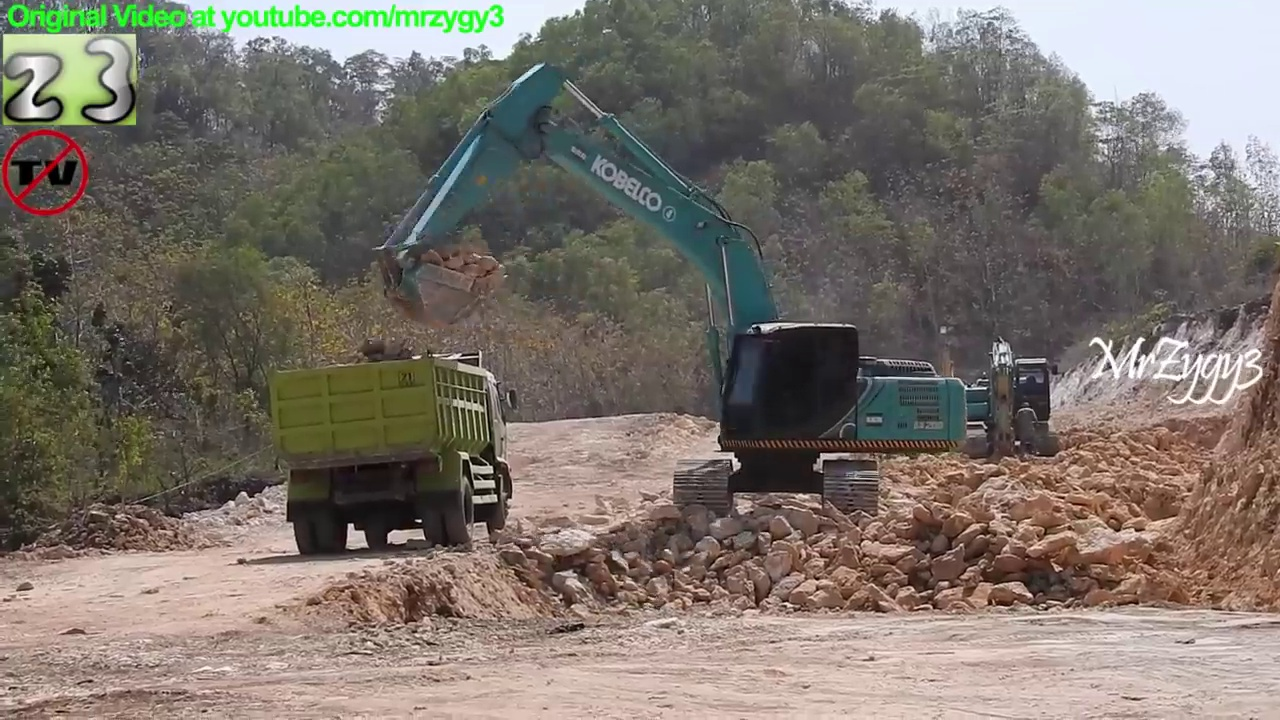excavator: (367, 58, 974, 524), (954, 333, 1065, 469), (902, 323, 982, 443)
truck: (262, 347, 522, 561)
worker: (1006, 395, 1047, 467)
